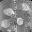people: (0, 18, 12, 28), (3, 8, 15, 17), (16, 17, 23, 26)
